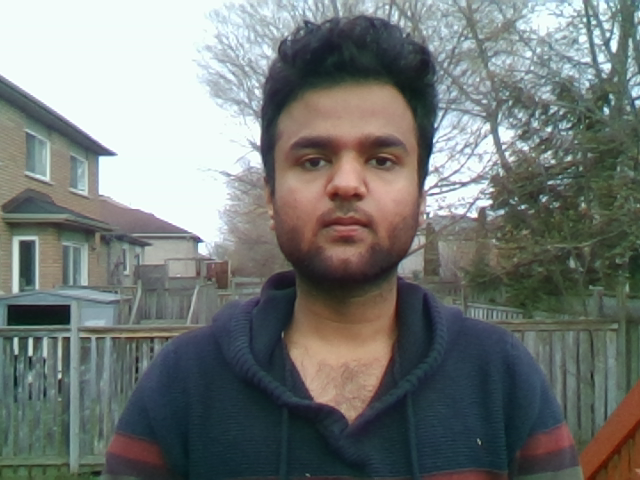Without Mask: (256, 168, 438, 288)
